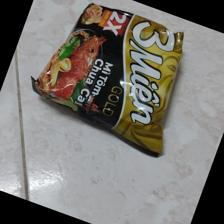3mien: (30, 2, 186, 158)
